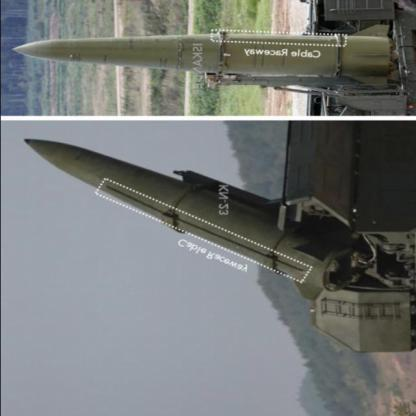MIL_TBM: (14, 132, 317, 289), (11, 28, 392, 81)
